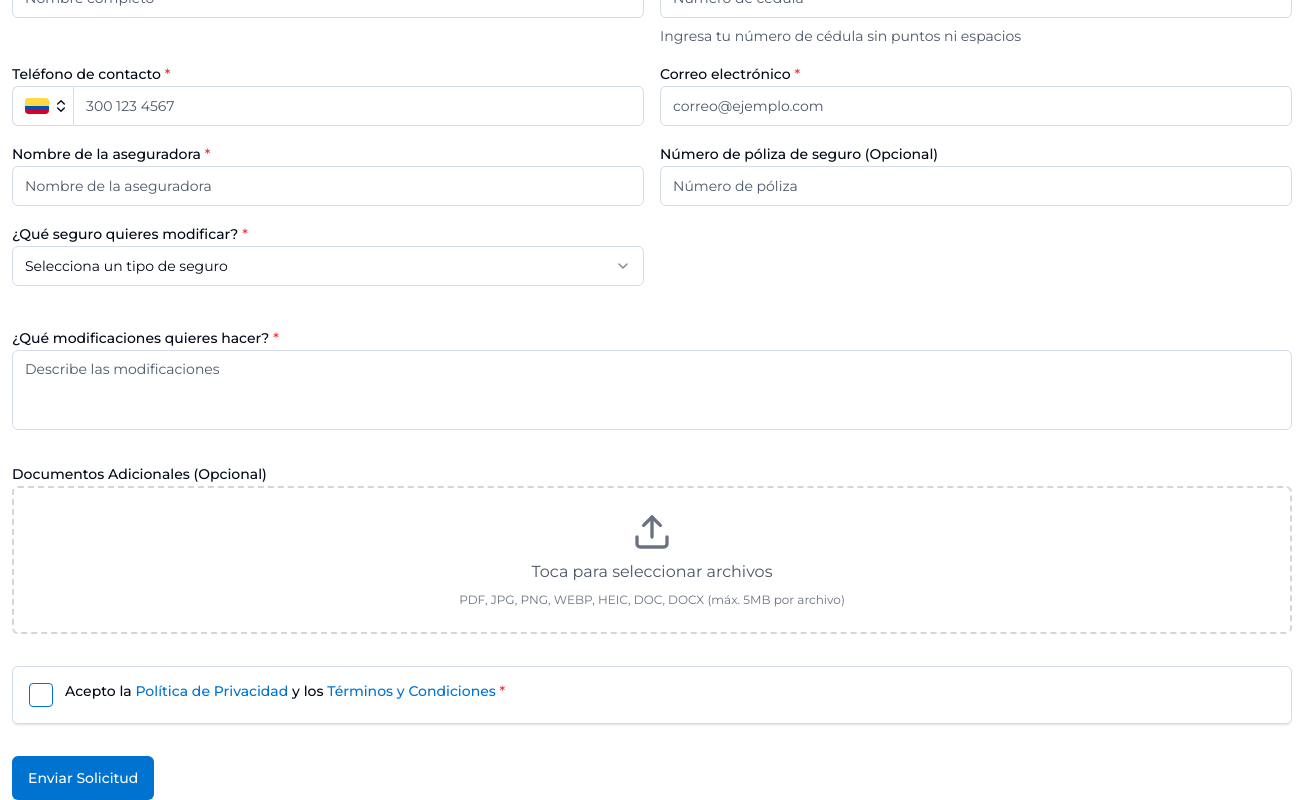
Scenario: ModificationForm › Form Validation › shows the required-field messages on submit
(page scrolled)
Click the button "Enviar Solicitud": (83, 778) x1=12 y1=756 x2=154 y2=799
(page scrolled)
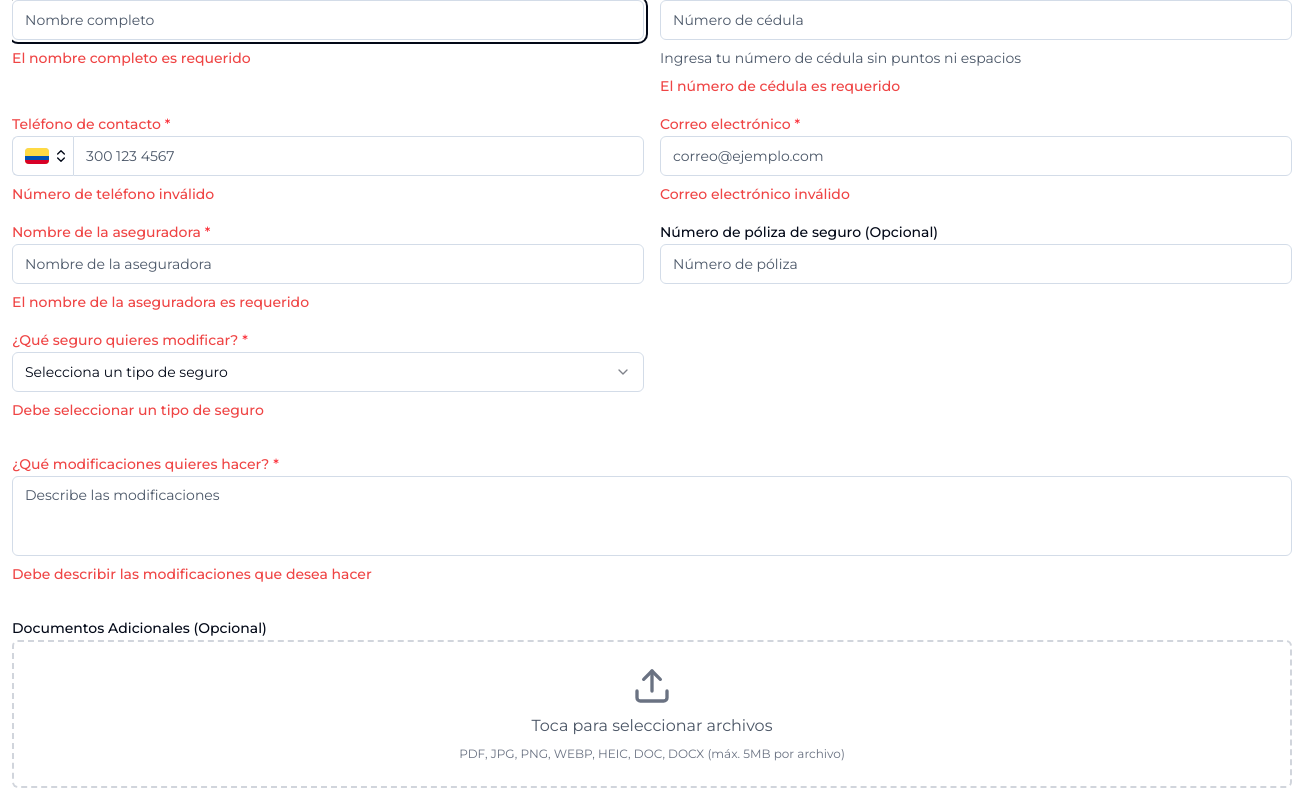
Now the text "El nombre completo es requerido" is shown, box x1=12 y1=49 x2=251 y2=67
Now the text "Debe describir las modificaciones que desea hacer" is shown, box x1=12 y1=565 x2=372 y2=583
Now the text "Debe seleccionar un tipo de seguro" is shown, box x1=12 y1=401 x2=264 y2=419
